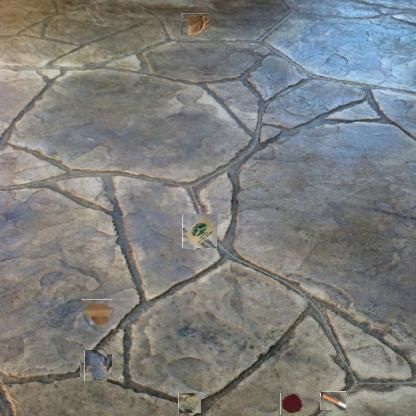dirty: (183, 214, 217, 249), (82, 299, 112, 326), (182, 13, 210, 35), (320, 391, 346, 410), (179, 393, 201, 414)
liquid: (82, 352, 110, 379), (280, 394, 303, 416)
